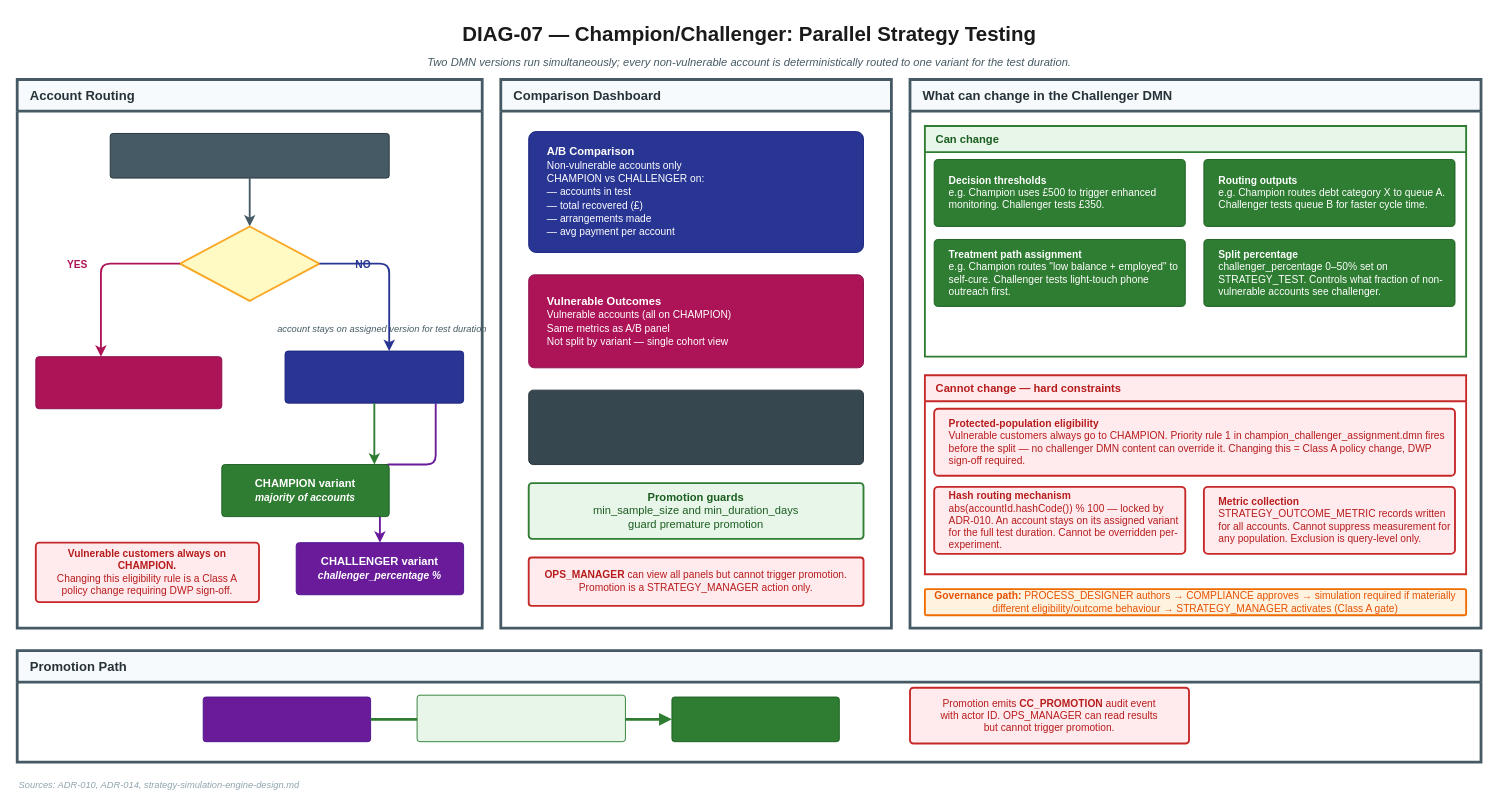
The diagram is 1498 pixels wide and 806 high, and some of its shapes have lost their labels. The shapes that lost their labels are listed below. From the top down, each one's centre as x and y in pixels, then its label:
At point (249, 155): "Incoming accounts eligible for strategy evaluation".
At point (249, 263): "Vulnerable customer?".
At point (128, 382): "Force to CHAMPION vulnerability_override = true".
At point (374, 376): "A/B routing DMN abs(accountId.hashCode()) % 100".
At point (696, 427): "Overall Population Full population totals No variant filter — combined view".
At point (286, 719): "CHALLENGER".
At point (520, 718): "STRATEGY_MANAGER triggers promotion from Operations Workspace".
At point (755, 719): "CHAMPION".
